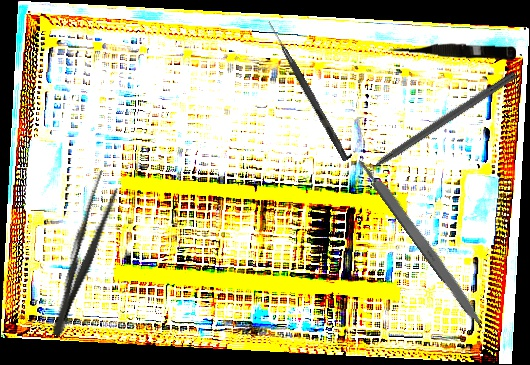Dressing Forceps: (43, 168, 124, 341)
Hook Surgical: (352, 69, 518, 182), (264, 20, 351, 162)
Micro Scissor: (387, 39, 517, 61)
Scalpel Handle: (354, 152, 490, 332)
